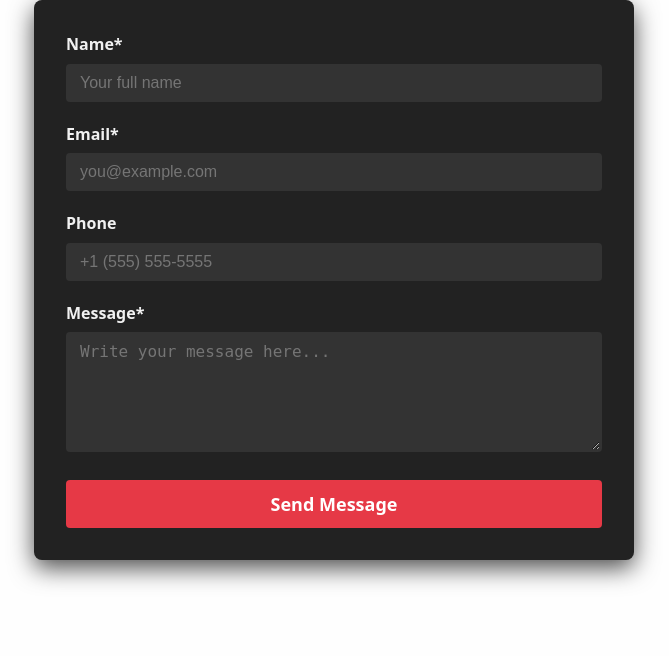
Test case: ContactForm component › shows error for invalid email and phone
Type "John Doe" into the field labelled "Name*" at x=334, y=83, box 66,64 -> 602,102
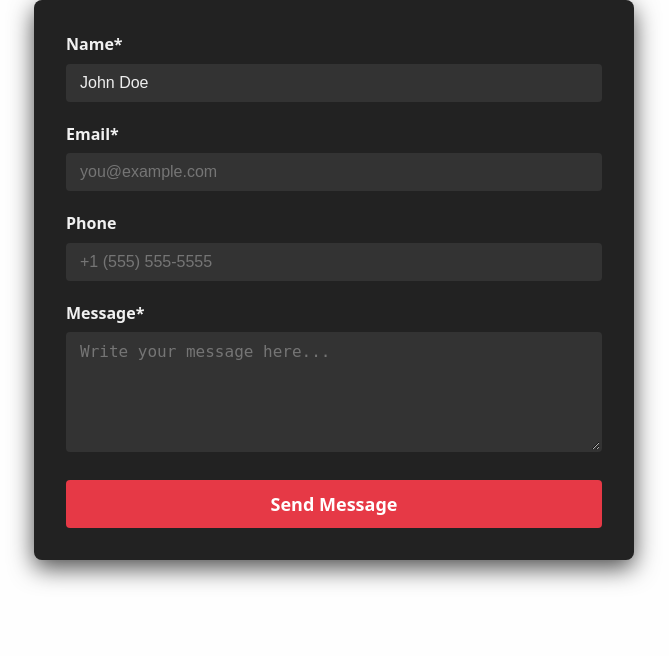
Type "invalid-email" into the field labelled "Email*" at x=334, y=172, box 66,153 -> 602,191
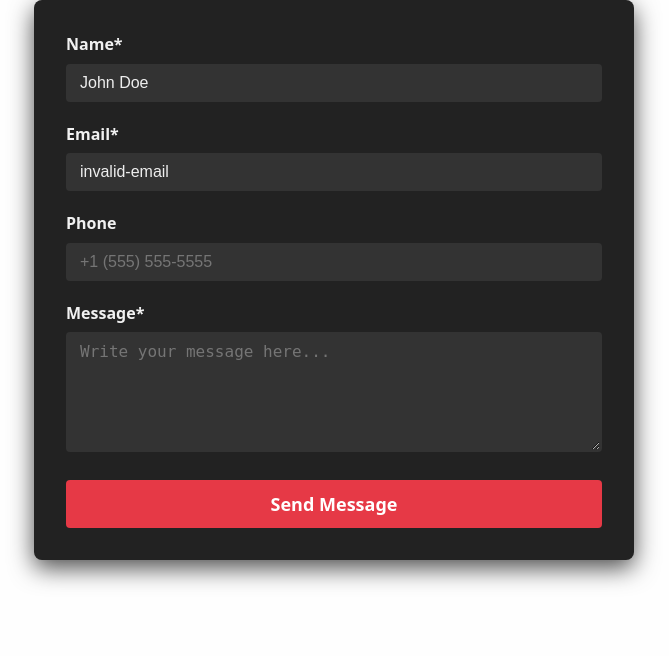
Type "abc" into the field labelled "Phone" at x=334, y=262, box 66,243 -> 602,281
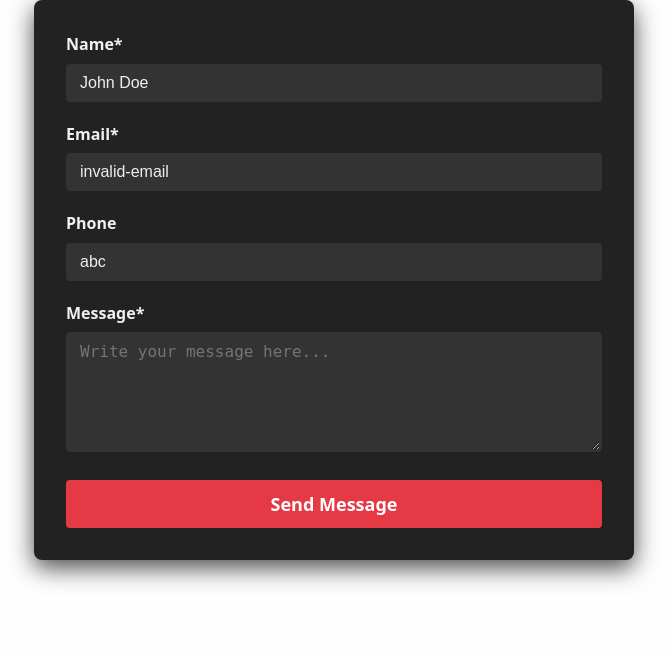
Type "This is a valid message." into the text box labelled "Message*" at x=334, y=392, box 66,332 -> 602,452
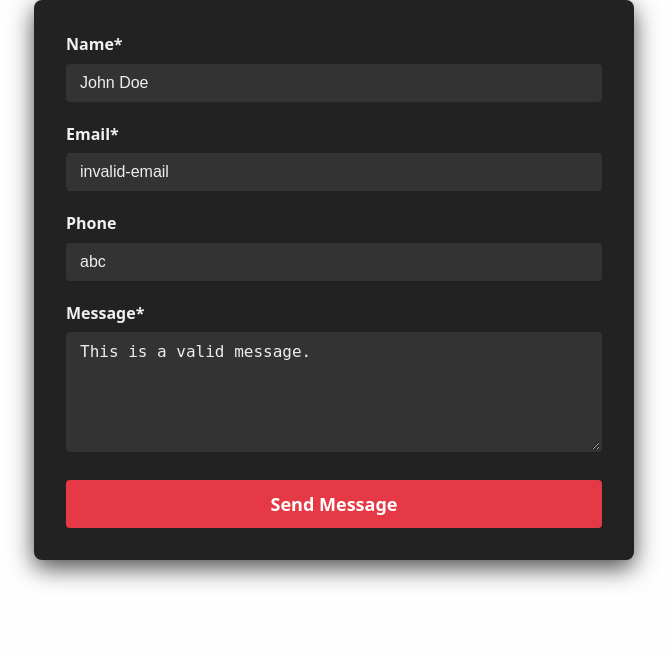
Click the button "Send Message" at x=334, y=504, box 66,480 -> 602,528
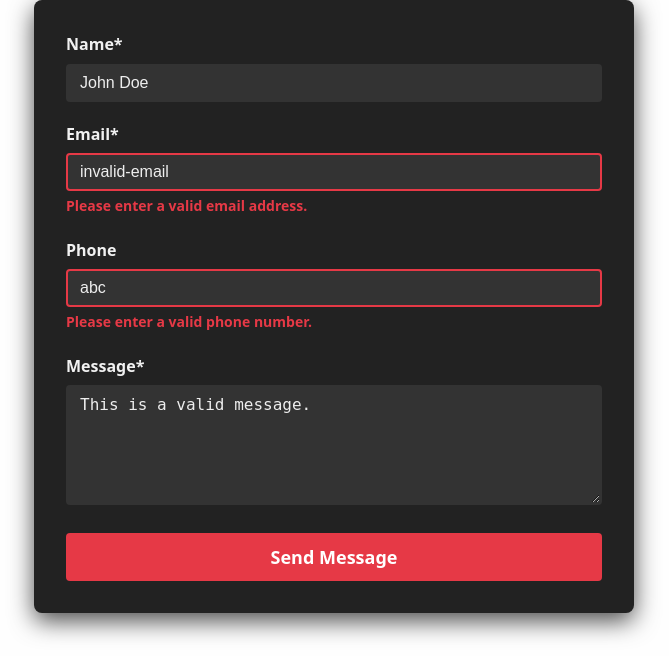
Now the text "Please enter a valid email address." is shown, box 66,196 -> 307,215
Now the text "Please enter a valid phone number." is shown, box 66,312 -> 312,331
